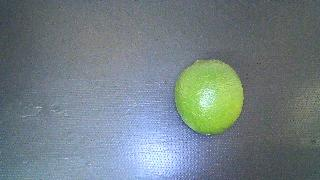EXPORTACION: (175, 59, 244, 135)
